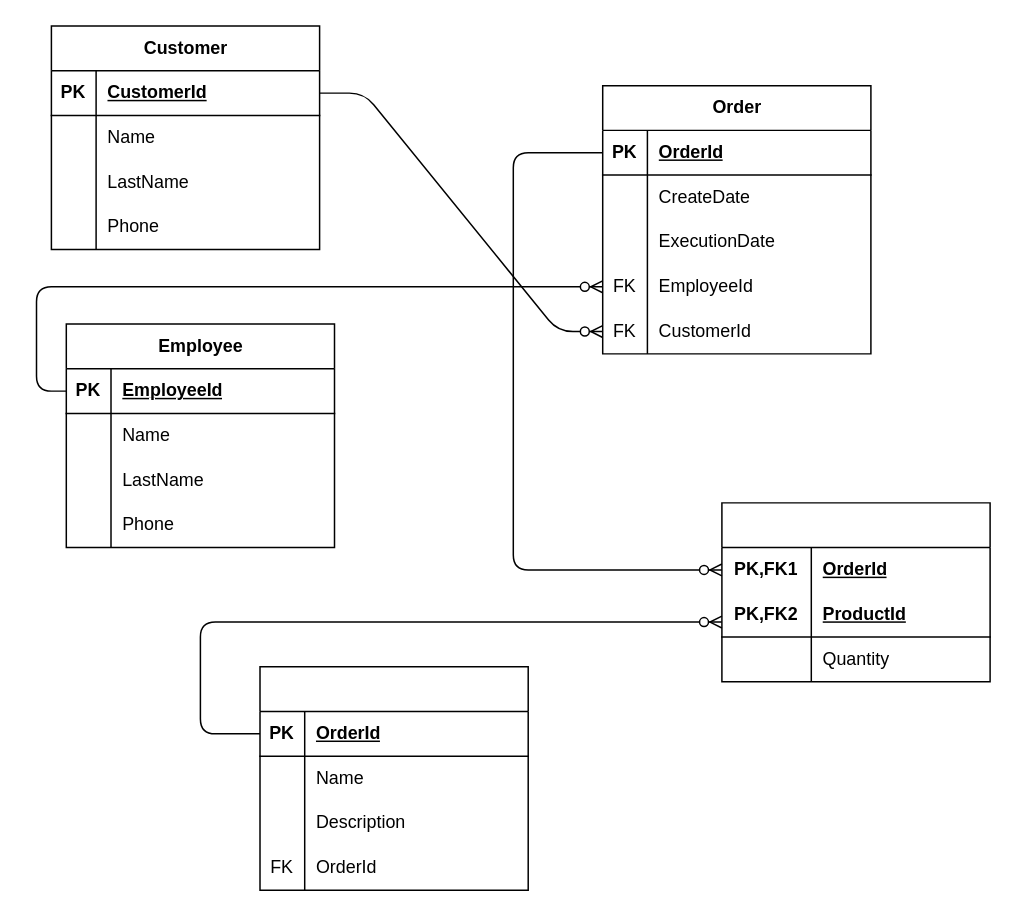
Some shapes in this 1016 by 916 pixel diagram are drawn without their labels. The shapes that lost their labels are listed below. From the top down, each one's box as (x1, y1, x2, y2) in pixels, then its label:
(720, 501, 990, 682): OrderProduct
(259, 665, 528, 890): Product
